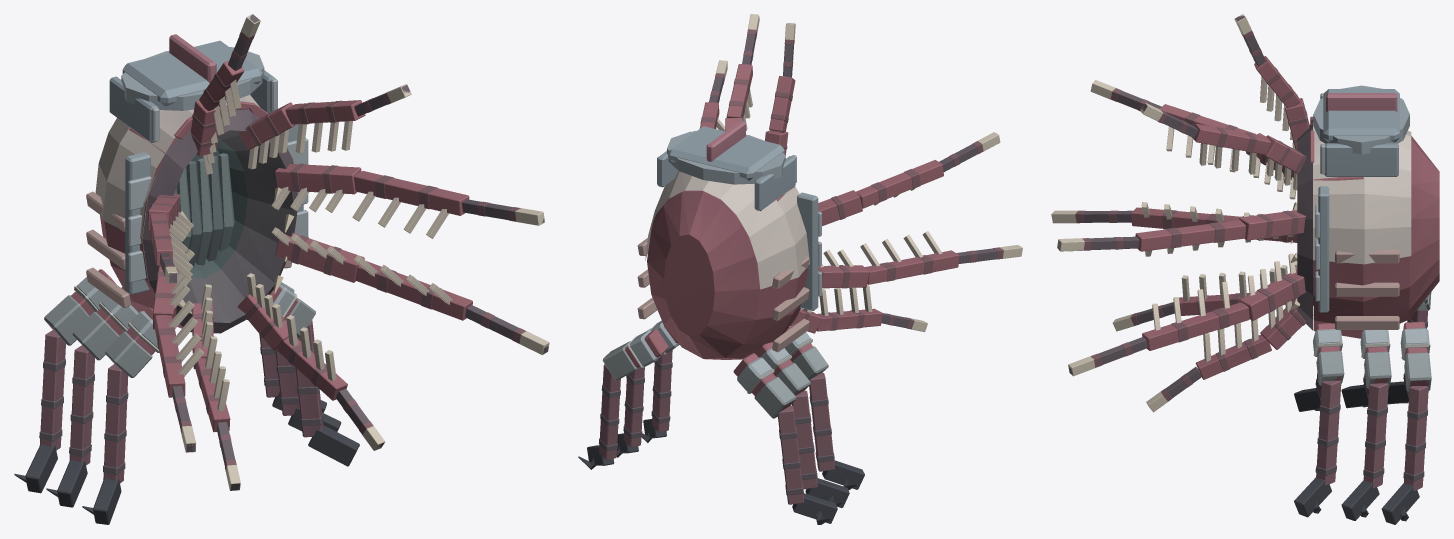
The model's file is AdaptedVisceraKnight.glb.
3 views of the same model, side by side, from view 1: azimuth 30°, elevation 25°; view 2: azimuth 150°, elevation 25°; view 3: azimuth 270°, elevation 25° (orthographic). The views are drawn at different scales.
Visible parts, largest first — view 1: Body, LegR, ArmR, ArmL, LegL; view 2: Body, LegR, LegL, ArmR, ArmL; view 3: Body, LegL, ArmL, LegR, ArmR.
Part boxes in pixels (box(x1,y1,x2,y2)): Body: box(46, 14, 549, 507); LegR: box(14, 269, 116, 493); ArmR: box(82, 307, 159, 524); ArmL: box(269, 284, 359, 466); LegL: box(259, 335, 326, 412); Body: box(616, 14, 1022, 507); LegR: box(733, 353, 837, 524); LegL: box(578, 329, 668, 469); ArmR: box(785, 324, 864, 490); ArmL: box(641, 344, 679, 442); Body: box(1051, 14, 1439, 520); LegL: box(1381, 321, 1431, 524); ArmL: box(1294, 323, 1344, 517); LegR: box(1387, 292, 1431, 404); ArmR: box(1294, 373, 1321, 411).
Bounding box in the file's own units: 8.02 × 10.39 × 8.25.
